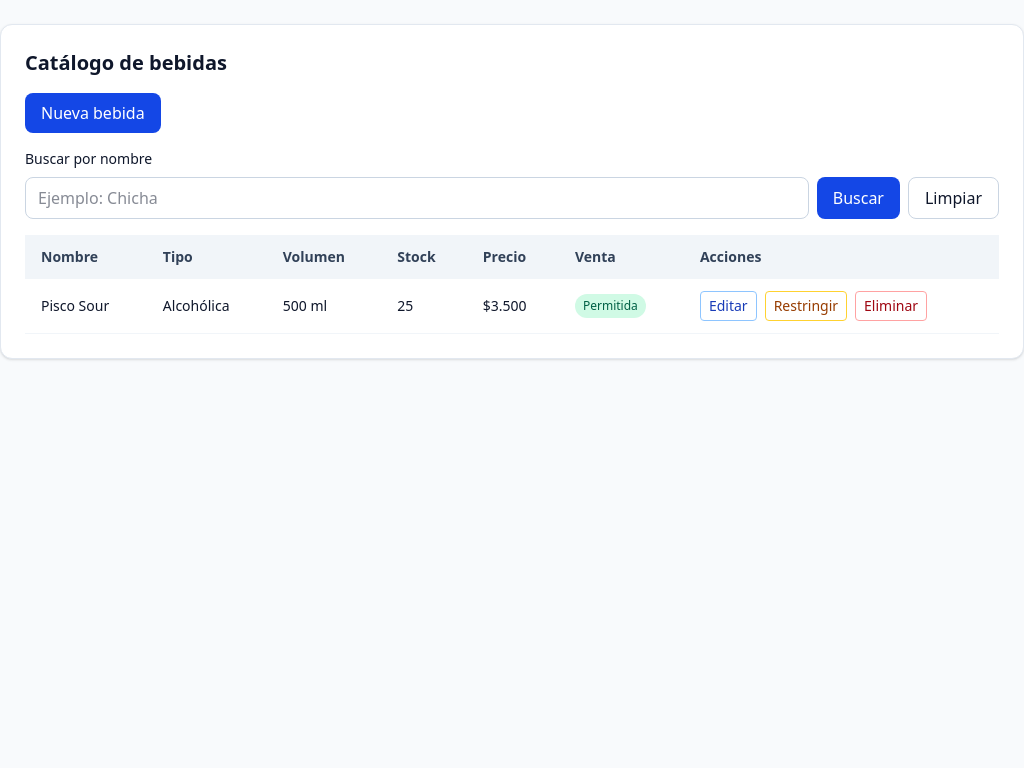
Test: Acciones del catálogo › edita una bebida desde el catálogo
Expected: the text "Pisco Sour" is shown, [25, 279, 147, 334]
Step 1. Click the button "Editar" → click(728, 306), box [700, 291, 757, 321]
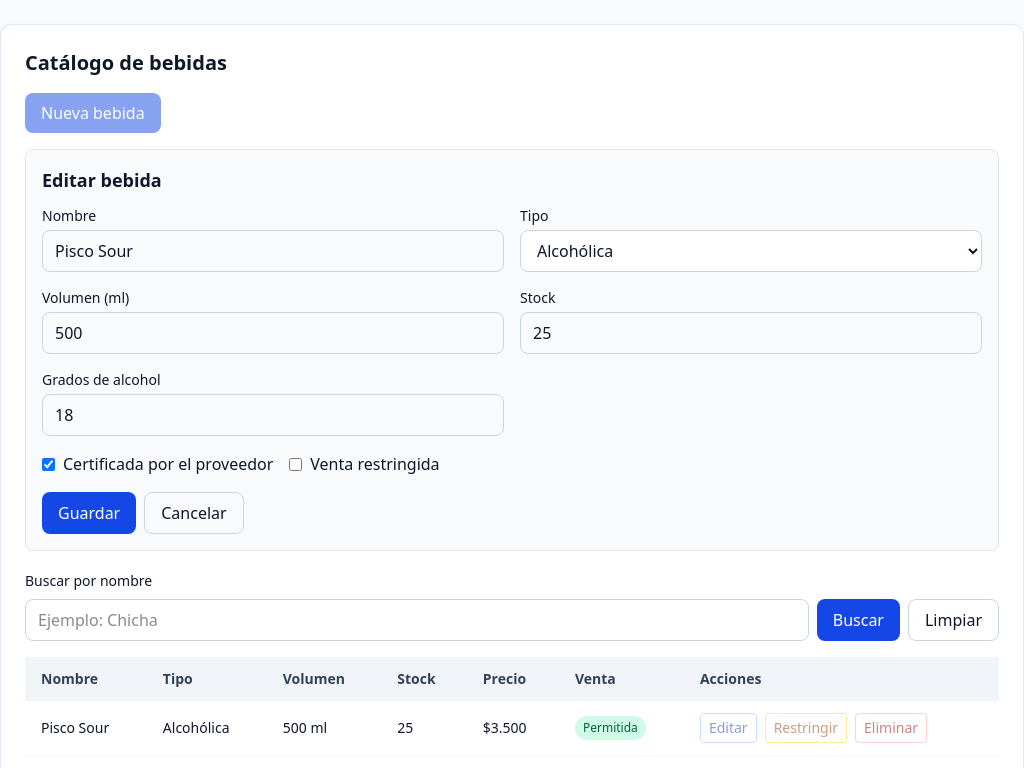
Expected: the field labelled "Nombre" holds "Pisco Sour", [42, 230, 504, 272]
Step 2. Click the checkbox labelled "Certificada por el proveedor" → click(48, 464), box [42, 458, 55, 470]
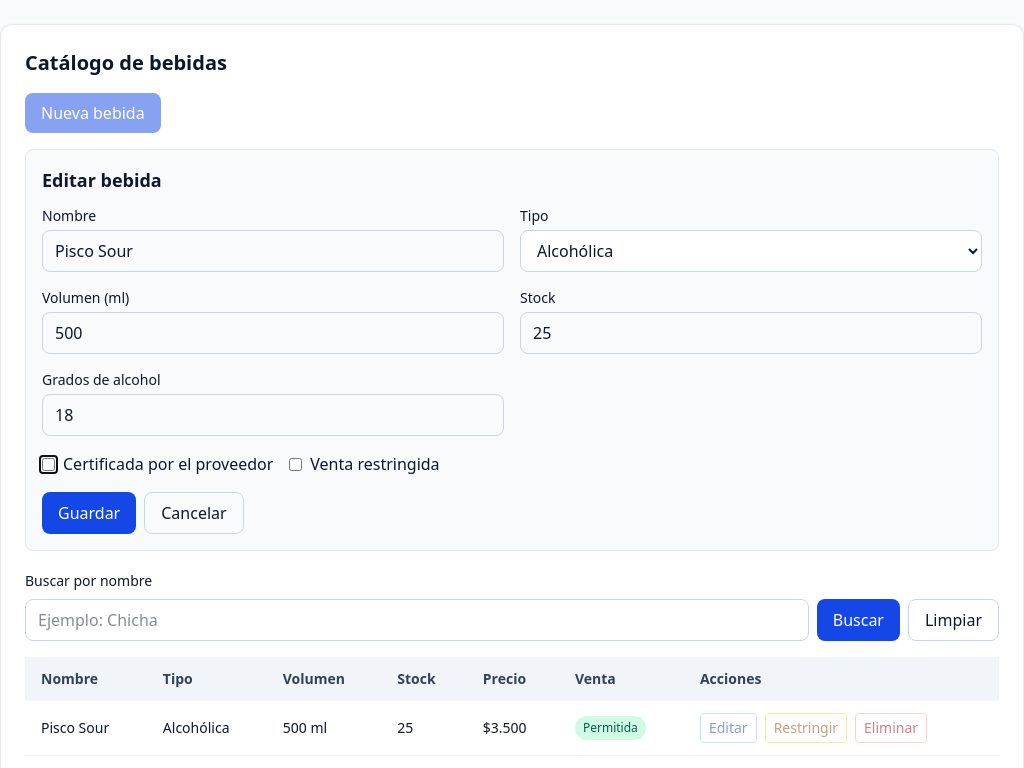
Step 3. Click the button "Guardar" → click(89, 513), box [42, 492, 136, 534]
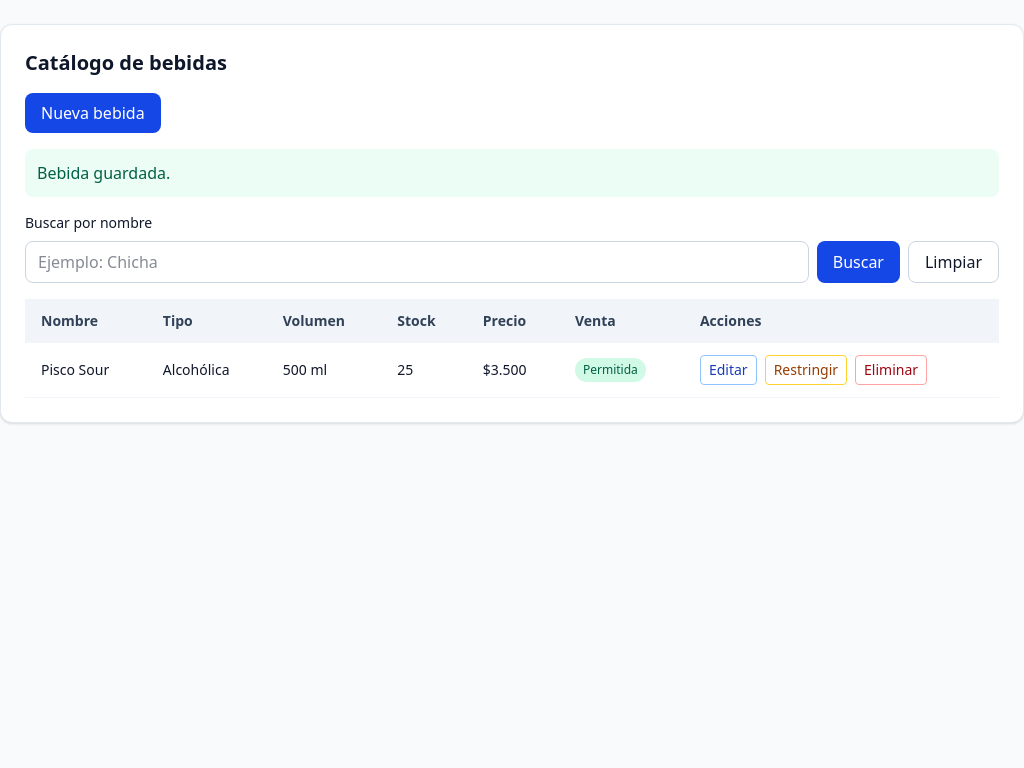
Expected: the text "Bebida guardada." is shown, [25, 149, 999, 197]
